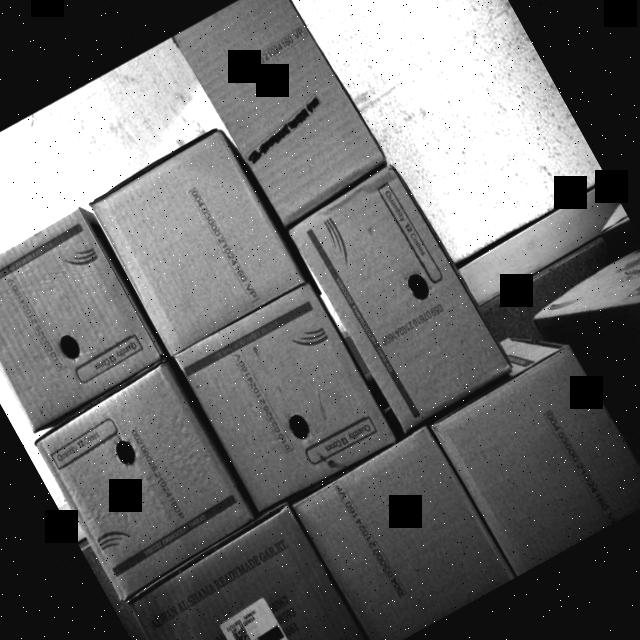box: (288, 164, 514, 434), (169, 276, 402, 520), (81, 122, 312, 366), (278, 407, 518, 640), (34, 367, 258, 598), (174, 0, 396, 229), (430, 336, 640, 574), (0, 206, 166, 431), (120, 497, 371, 640), (356, 386, 365, 392)
